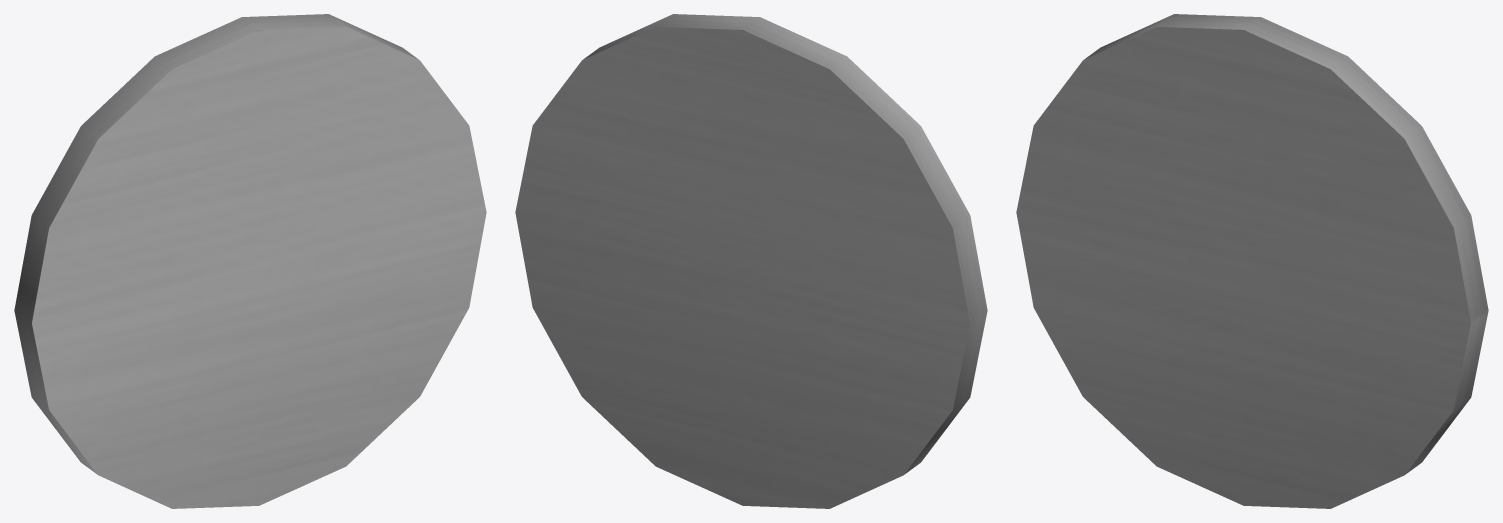
The model's file is Coin.fbx.
The picture shows the model from 3 angles, left to right: view 1: azimuth 30°, elevation 25°; view 2: azimuth 150°, elevation 25°; view 3: azimuth 330°, elevation 25°; orthographic projection.
Visible parts, largest first — view 1: Coin; view 2: Coin; view 3: Coin.
Boxes of the visible parts, x1=… form: Coin: x1=14, y1=14, x2=486, y2=508; Coin: x1=515, y1=14, x2=987, y2=508; Coin: x1=1016, y1=14, x2=1488, y2=508.
Size of the model in its own units: 3 by 3 by 0.2.
1 material, 1 textured.
